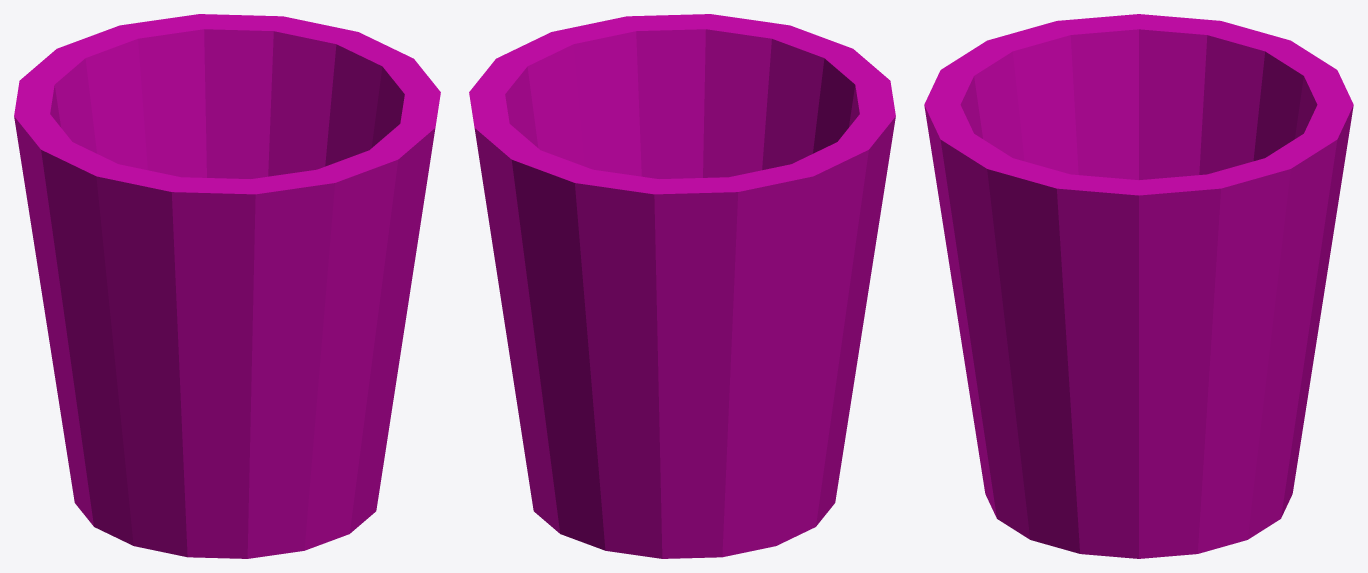
The model's file is BeachToy_4.fbx.
3 views of the same model, side by side, from view 1: azimuth 30°, elevation 25°; view 2: azimuth 150°, elevation 25°; view 3: azimuth 270°, elevation 25° (orthographic).
Parts seen in each view (by area): view 1: Bucket; view 2: Bucket; view 3: Bucket.
Boxes of the visible parts, bbox=[...] form: Bucket: bbox=[14, 14, 440, 558]; Bucket: bbox=[469, 14, 895, 558]; Bucket: bbox=[924, 14, 1353, 558].
Bounding box in the file's own units: 38.46 × 38.46 × 38.46.
